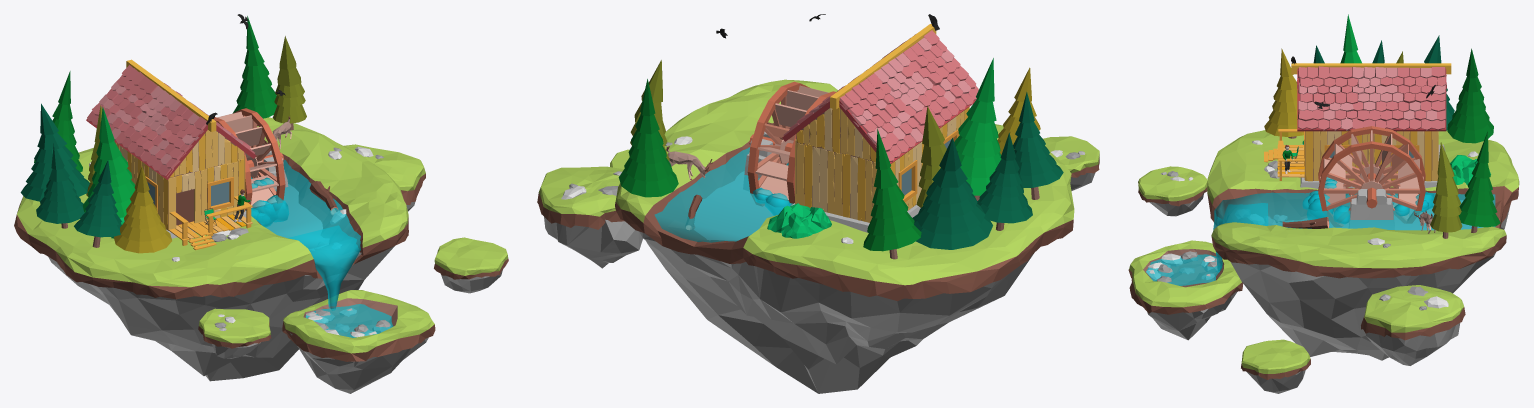
File: land_10.fbx
3 renders of one model, left to right at view 1: azimuth 30°, elevation 25°; view 2: azimuth 150°, elevation 25°; view 3: azimuth 270°, elevation 25°, orthographic. The views are drawn at different scales.
Parts seen in each view (by area): view 1: polySurface3290, land_10.052, polySurface3289, land_10.050, polySurface3288, polySurface3286, land_10.067, land_10.066, land_10.065, land_10.070, land_10.053, land_10.059 (+4 smaller); view 2: polySurface3290, land_10.052, polySurface3285, polySurface3289, land_10.050, land_10.066, land_10.065, land_10.070, land_10.058, land_10.053, land_10.059, polySurface3286 (+5 smaller); view 3: polySurface3290, land_10.052, land_10.050, polySurface3285, polySurface3289, polySurface3288, polySurface3286, land_10.058, land_10.070, land_10.069, land_10.067, land_10.051 (+5 smaller).
Boxes of the visible parts, x1,y1,x2,y2 form: polySurface3290: [14, 117, 435, 393]; land_10.052: [86, 59, 256, 238]; polySurface3289: [246, 159, 360, 310]; land_10.050: [213, 108, 285, 210]; polySurface3288: [434, 237, 508, 293]; polySurface3286: [198, 308, 271, 358]; land_10.067: [113, 166, 171, 253]; land_10.066: [20, 103, 89, 201]; land_10.065: [83, 106, 135, 217]; land_10.070: [233, 16, 277, 126]; land_10.053: [36, 143, 84, 228]; land_10.059: [74, 160, 121, 247]; polySurface3290: [615, 79, 1074, 393]; land_10.052: [782, 24, 978, 232]; polySurface3285: [537, 166, 642, 268]; polySurface3289: [655, 147, 792, 242]; land_10.050: [747, 81, 836, 206]; land_10.066: [912, 138, 992, 249]; land_10.065: [954, 58, 1001, 200]; land_10.070: [618, 79, 678, 197]; land_10.058: [863, 128, 921, 259]; land_10.053: [977, 133, 1032, 230]; land_10.059: [1013, 92, 1063, 199]; polySurface3286: [1043, 136, 1099, 190]; polySurface3290: [1128, 130, 1519, 360]; land_10.052: [1291, 63, 1451, 188]; land_10.050: [1318, 126, 1425, 227]; polySurface3285: [1361, 285, 1465, 365]; polySurface3289: [1213, 177, 1495, 271]; polySurface3288: [1241, 339, 1310, 393]; polySurface3286: [1138, 166, 1207, 216]; land_10.058: [1447, 48, 1493, 143]; land_10.070: [1458, 131, 1500, 232]; land_10.069: [1430, 142, 1462, 238]; land_10.067: [1264, 48, 1303, 138]; land_10.051: [1349, 189, 1394, 229].
Size of the model in its own units: 22.54 by 16.71 by 19.65.
